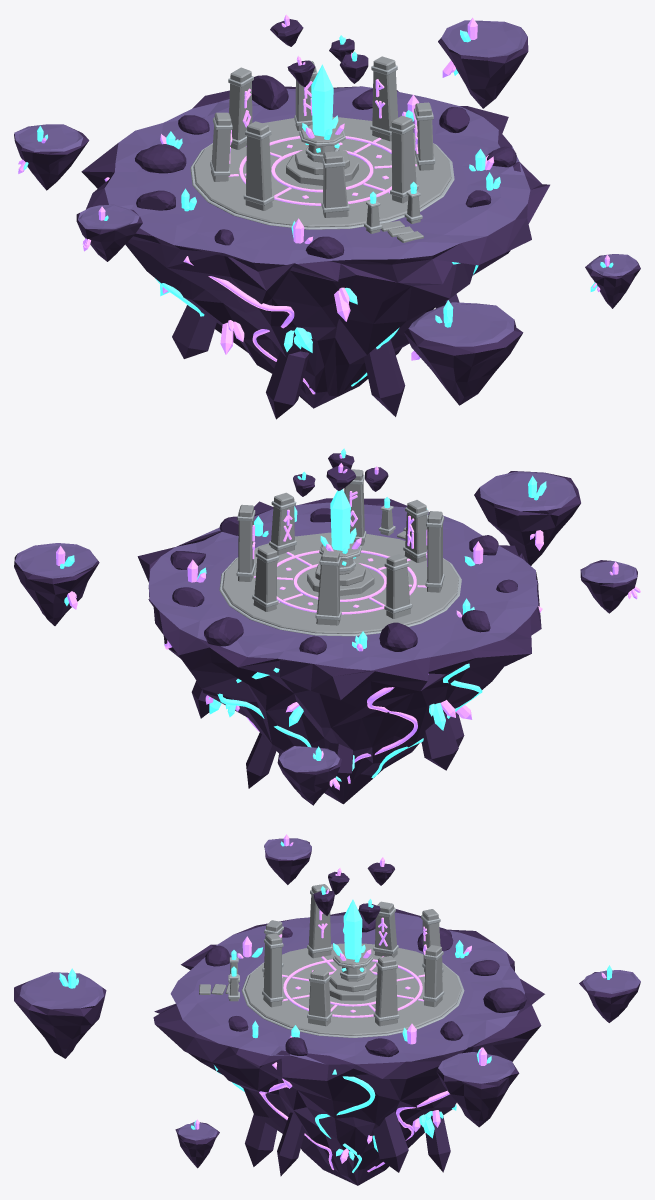
The model's file is rune-circle-sky-island.glb.
3 views of the same model, one above another, from view 1: azimuth 30°, elevation 25°; view 2: azimuth 150°, elevation 25°; view 3: azimuth 270°, elevation 25° (orthographic). The views are drawn at different scales.
Visible parts, largest first — view 1: Island_Rock, Plaza, DriftRock_4, Underside_Crags, DriftRock_1, DriftRock_2, DriftRock_3, StandingStone_5, Altar, DriftRock_5, Plaza_Runes, StandingStone_7 (+17 smaller); view 2: Island_Rock, Plaza, DriftRock_4, DriftRock_1, Underside_Crags, DriftRock_2, DriftRock_3, Plaza_Runes, Altar, StandingStone_3, Underside_Crystals, StandingStone_4 (+16 smaller); view 3: Island_Rock, Plaza, DriftRock_4, Underside_Crags, DriftRock_1, DriftRock_2, Altar, DriftRock_3, StandingStone_1, Plaza_Runes, DriftRock_5, StandingStone_7 (+11 smaller).
Boxes of the visible parts, bbox=[...] form: Island_Rock: bbox=[81, 86, 549, 408]; Plaza: bbox=[193, 117, 451, 227]; DriftRock_4: bbox=[404, 302, 523, 405]; Underside_Crags: bbox=[172, 294, 459, 419]; DriftRock_1: bbox=[438, 20, 528, 108]; DriftRock_2: bbox=[14, 124, 89, 190]; DriftRock_3: bbox=[76, 204, 142, 261]; StandingStone_5: bbox=[245, 121, 272, 210]; Altar: bbox=[286, 124, 358, 185]; DriftRock_5: bbox=[585, 254, 640, 308]; Plaza_Runes: bbox=[228, 136, 416, 205]; StandingStone_7: bbox=[391, 115, 416, 203]; Island_Rock: bbox=[137, 498, 541, 804]; Plaza: bbox=[222, 532, 458, 633]; DriftRock_4: bbox=[474, 471, 580, 565]; DriftRock_1: bbox=[14, 543, 99, 625]; Underside_Crags: bbox=[191, 681, 464, 788]; DriftRock_2: bbox=[277, 746, 341, 805]; DriftRock_3: bbox=[580, 560, 637, 613]; Plaza_Runes: bbox=[254, 550, 426, 614]; Altar: bbox=[307, 540, 374, 595]; StandingStone_3: bbox=[316, 550, 340, 625]; Underside_Crystals: bbox=[205, 695, 472, 770]; StandingStone_4: bbox=[386, 554, 410, 618]; Island_Rock: bbox=[153, 909, 544, 1185]; Plaza: bbox=[244, 943, 461, 1035]; DriftRock_4: bbox=[14, 972, 106, 1058]; Underside_Crags: bbox=[245, 1111, 450, 1176]; DriftRock_1: bbox=[436, 1052, 519, 1127]; DriftRock_2: bbox=[579, 970, 640, 1022]; Altar: bbox=[329, 950, 377, 1000]; DriftRock_3: bbox=[264, 838, 311, 884]; StandingStone_1: bbox=[375, 956, 397, 1026]; Plaza_Runes: bbox=[282, 956, 424, 1017]; DriftRock_5: bbox=[175, 1122, 219, 1168]; StandingStone_7: bbox=[263, 933, 281, 1007].
Bounding box in the file's own units: 74.73 × 49.26 × 86.41.
